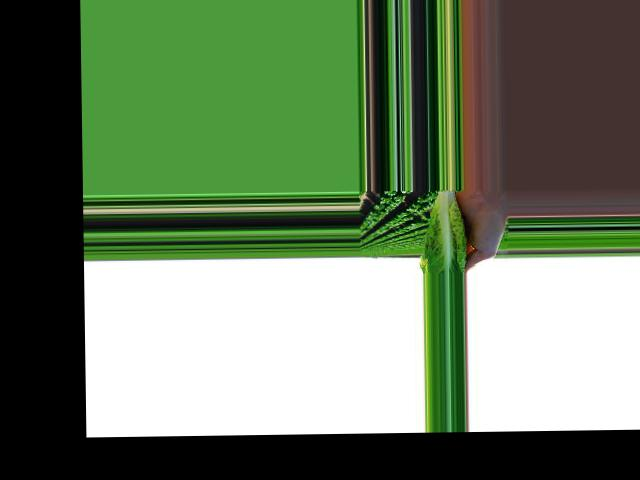lettuce: (421, 188, 466, 271)
